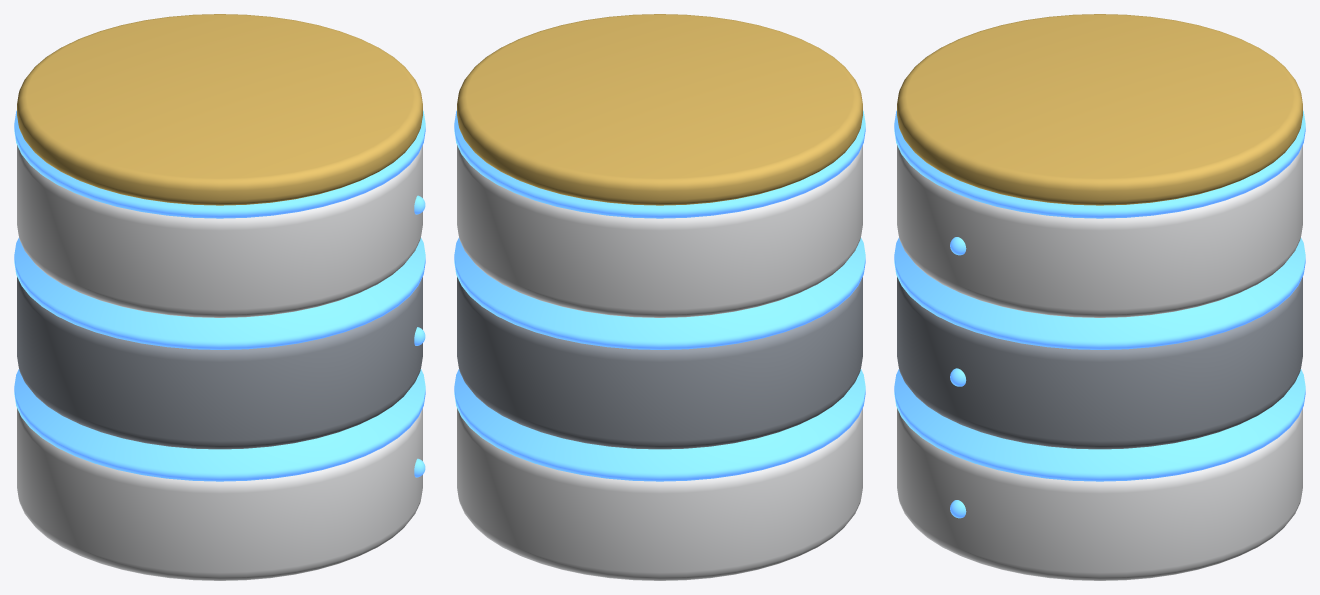
File: database.glb
3 views of the same model, side by side, from view 1: azimuth 30°, elevation 25°; view 2: azimuth 150°, elevation 25°; view 3: azimuth 270°, elevation 25° (orthographic).
Visible parts, largest first — view 1: mover_top, disc, disc.001, disc.002, seam, seam.001, seam.002; view 2: mover_top, disc, disc.001, disc.002, seam, seam.001, seam.002; view 3: mover_top, disc.001, disc, disc.002, seam, seam.001, seam.002.
Part boxes in pixels (x1,y1,x2,y2): mover_top: (17,14,422,205); disc: (17,408,422,580); disc.001: (17,277,422,449); disc.002: (17,145,422,317); seam: (14,369,425,481); seam.001: (14,238,425,349); seam.002: (14,110,425,218); mover_top: (457,14,862,205); disc: (457,408,862,580); disc.001: (457,277,862,449); disc.002: (457,145,862,317); seam: (454,369,865,481); seam.001: (454,238,865,349); seam.002: (454,110,865,218); mover_top: (897,14,1302,205); disc.001: (897,277,1302,449); disc: (897,408,1302,580); disc.002: (897,145,1302,317); seam: (894,369,1305,481); seam.001: (894,238,1305,349); seam.002: (894,110,1305,218).
Bounding box in the file's own units: 0.85 × 0.92 × 0.85.
